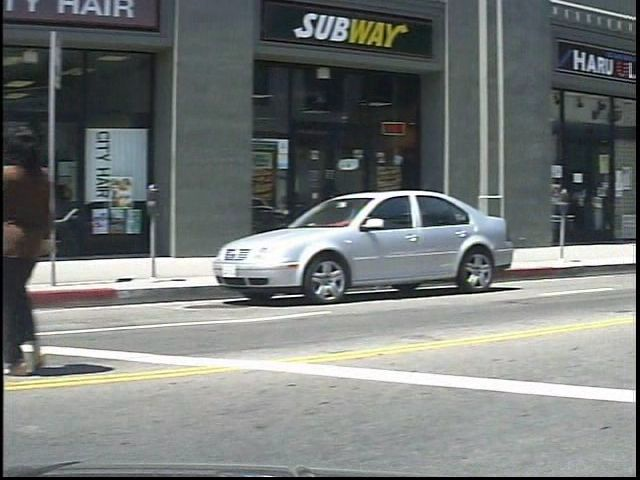person: (8, 119, 86, 376)
